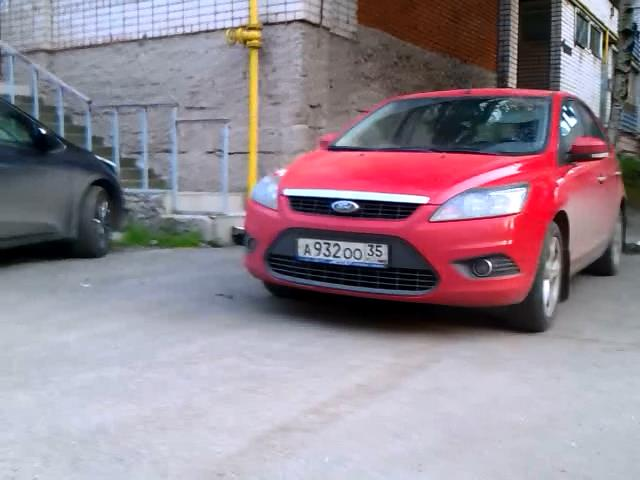car license plate: (296, 234, 394, 273)
